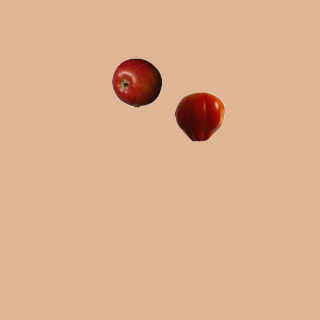Apple Braeburn: (111, 57, 161, 107)
Tomato 1: (174, 91, 224, 141)
